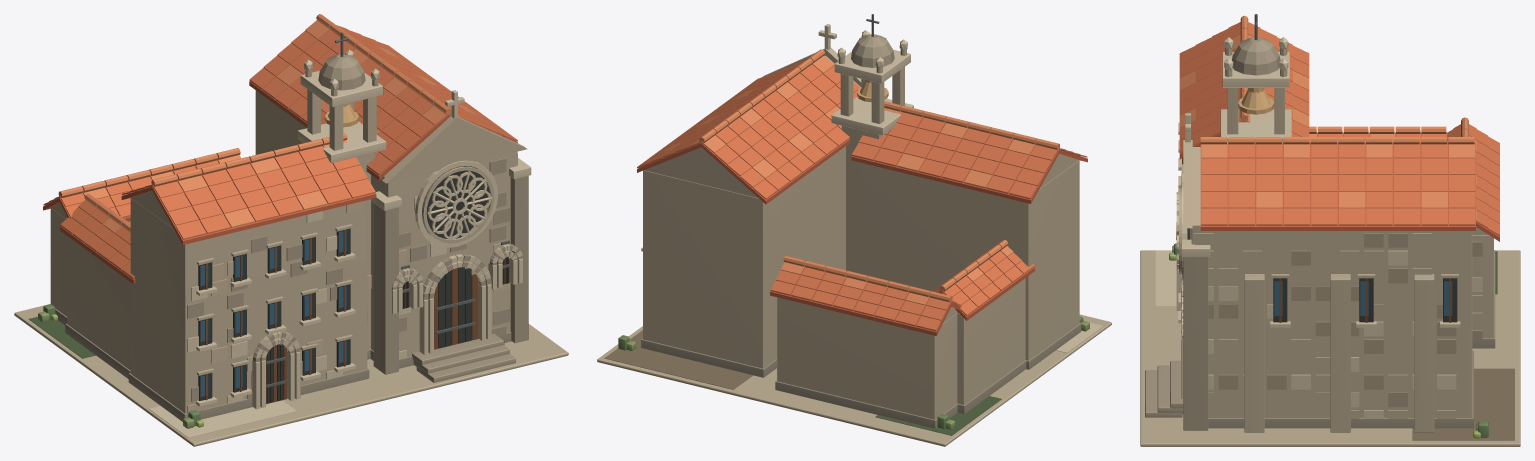
File: convent.glb
3 renders of one model, left to right at view 1: azimuth 30°, elevation 25°; view 2: azimuth 150°, elevation 25°; view 3: azimuth 270°, elevation 25°, orthographic. The views are drawn at different scales.
Visible parts, largest first — view 1: convent; view 2: convent; view 3: convent.
Boxes of the visible parts, box(x1,y1,x2,y2) form: convent: box(14, 14, 568, 446); convent: box(597, 14, 1111, 446); convent: box(1140, 14, 1520, 446).
Bounding box in the file's own units: 5.86 × 4.85 × 4.86.
